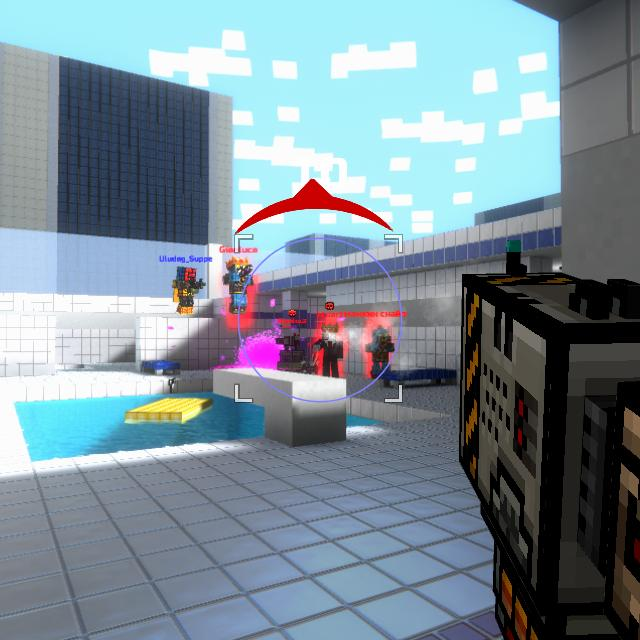Enemy: (223, 257, 255, 315), (312, 324, 344, 376), (366, 327, 396, 375)
